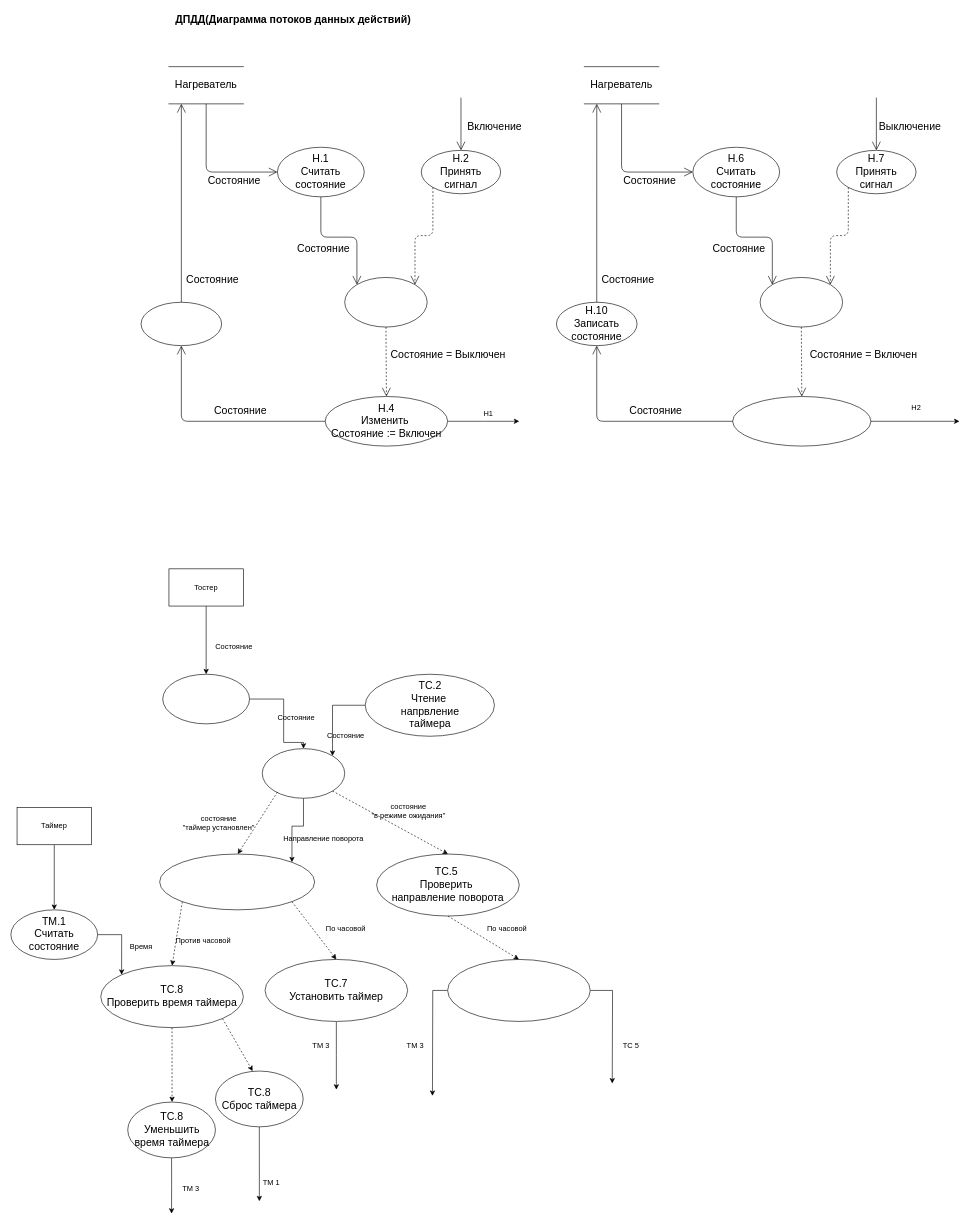
Image size: 975x1229. Some labels were removed from this diagram. The shapes that lost their labels are listed below. From the top down, each one's centre as x and y in pixels, then its label:
At point (385, 302): "Н.3 Проверить состояние".
At point (801, 302): "Н.8 Проверить состояние".
At point (181, 324): "Н.5 Записать состояние".
At point (801, 421): "Н.9 Изменить Состояние := Выключен".
At point (206, 699): "ТС.1 Считать состояние".
At point (303, 773): "ТС.3 Проверить состояние".
At point (237, 881): "ТС.4 Проверить направление поворота".
At point (518, 990): "ТС.6 Установить таймер".
